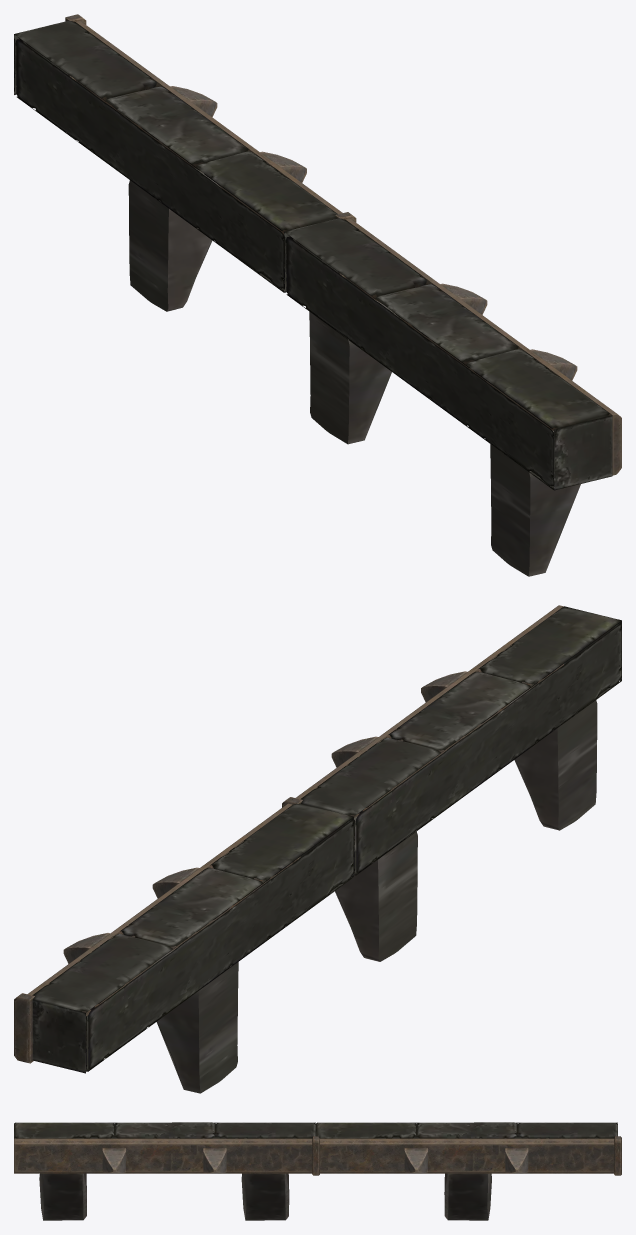
3 views of the same model, one above another, from view 1: azimuth 30°, elevation 25°; view 2: azimuth 150°, elevation 25°; view 3: azimuth 270°, elevation 25° (orthographic). The views are drawn at different scales.
Parts seen in each view (by area): view 1: SM_Dowdun_Wall_Trim_8x1_03_LOD0; view 2: SM_Dowdun_Wall_Trim_8x1_03_LOD0; view 3: SM_Dowdun_Wall_Trim_8x1_03_LOD0.
Boxes of the visible parts, <box> form: SM_Dowdun_Wall_Trim_8x1_03_LOD0: <box>14,14,621,576</box>; SM_Dowdun_Wall_Trim_8x1_03_LOD0: <box>14,605,621,1093</box>; SM_Dowdun_Wall_Trim_8x1_03_LOD0: <box>14,1122,621,1220</box>.
Bounding box in the file's own units: 0.9557 × 1.41 × 8.05.
3 materials, 3 textured.
